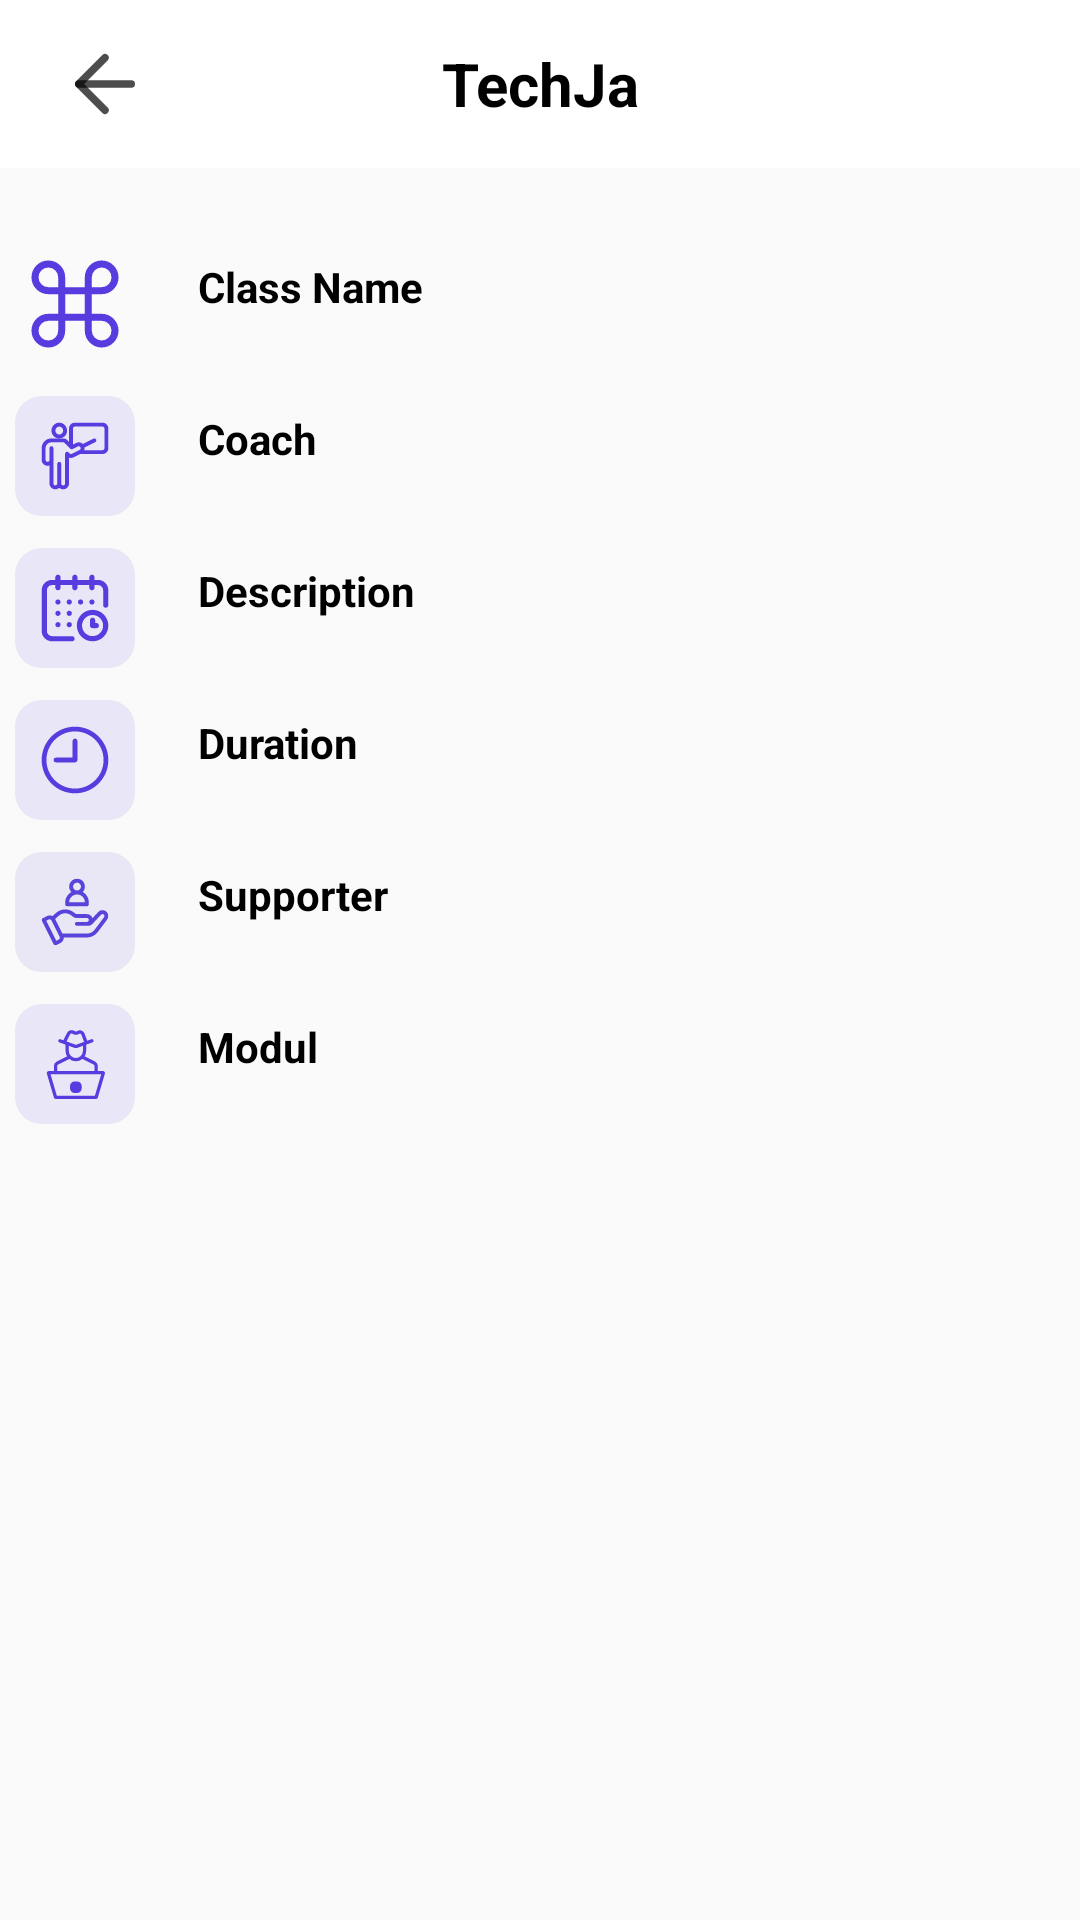

Point at icon controls on the screen. Image size 1080*1920, points as [x,y].
back: [105,84]
command: [75,304]
dayhoc: [75,456]
oclock: [75,760]
used computer: [75,1064]
